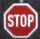Stop sign: (0, 0, 39, 38)
